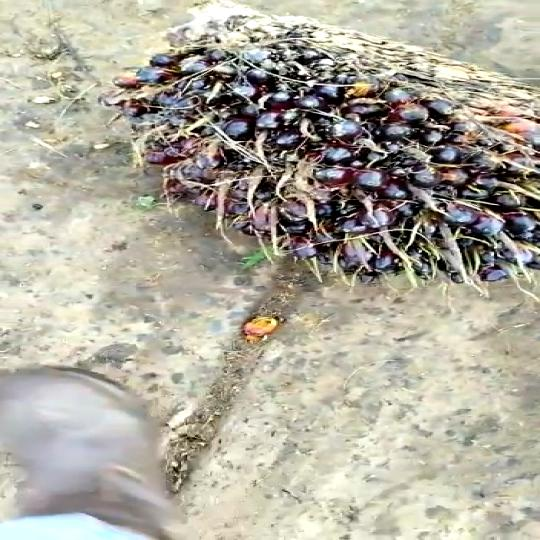mentah: (109, 5, 540, 288)
